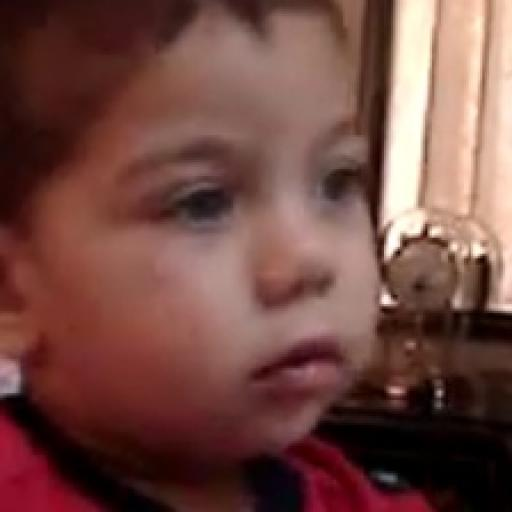Autism: (27, 36, 462, 480)
